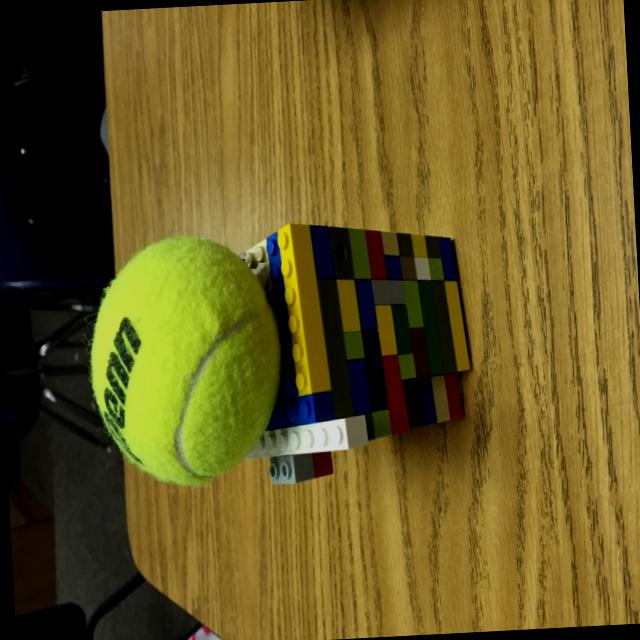Tennis Ball: (76, 230, 287, 494)
